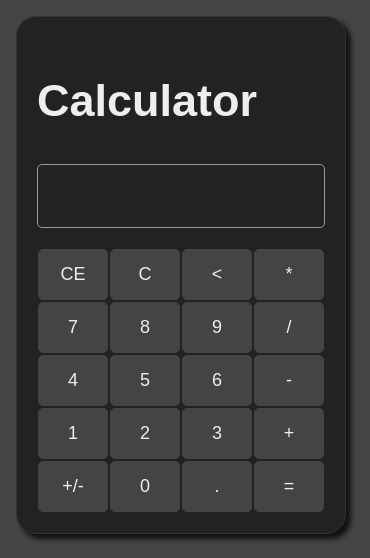
Test: Calculator › should remove a character from the input when pressed '<'
The image size is (370, 558).
Click the button "1" at (73, 433), box top-left (38, 408), bottom-right (108, 459)
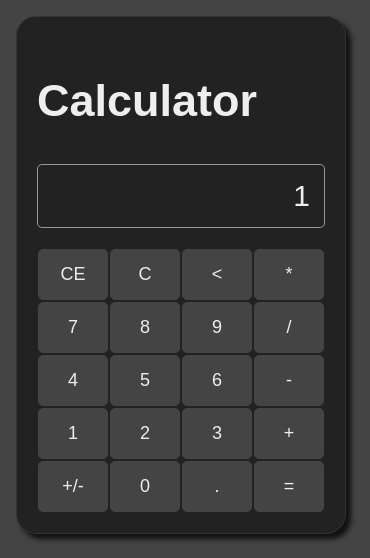
Expected: the field holds "1", top-left (37, 164), bottom-right (325, 228)
Click the button "+" at (289, 433), box top-left (254, 408), bottom-right (324, 459)
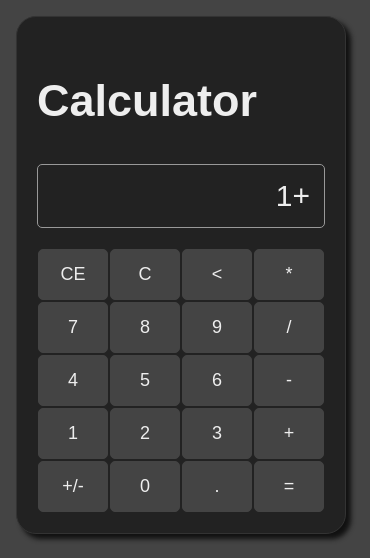
Click the button "2" at (145, 433), box top-left (110, 408), bottom-right (180, 459)
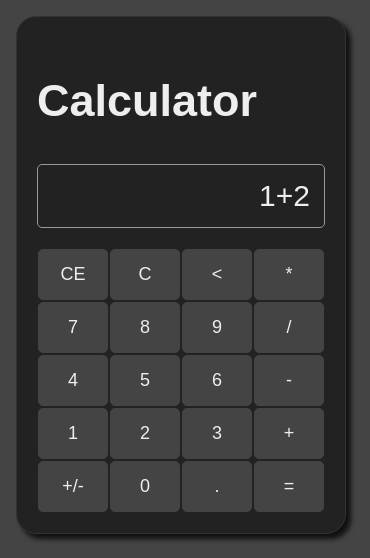
Click the button "<" at (217, 274), box top-left (182, 249), bottom-right (252, 300)
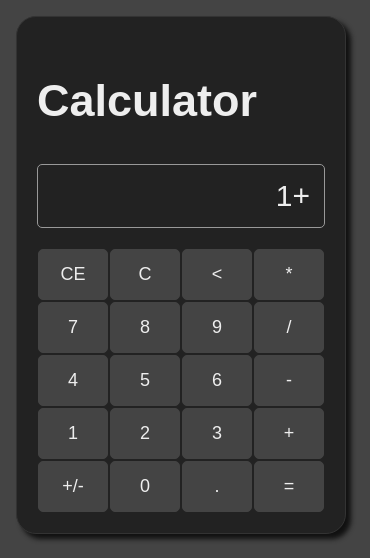
Expected: the field holds "1+", top-left (37, 164), bottom-right (325, 228)
